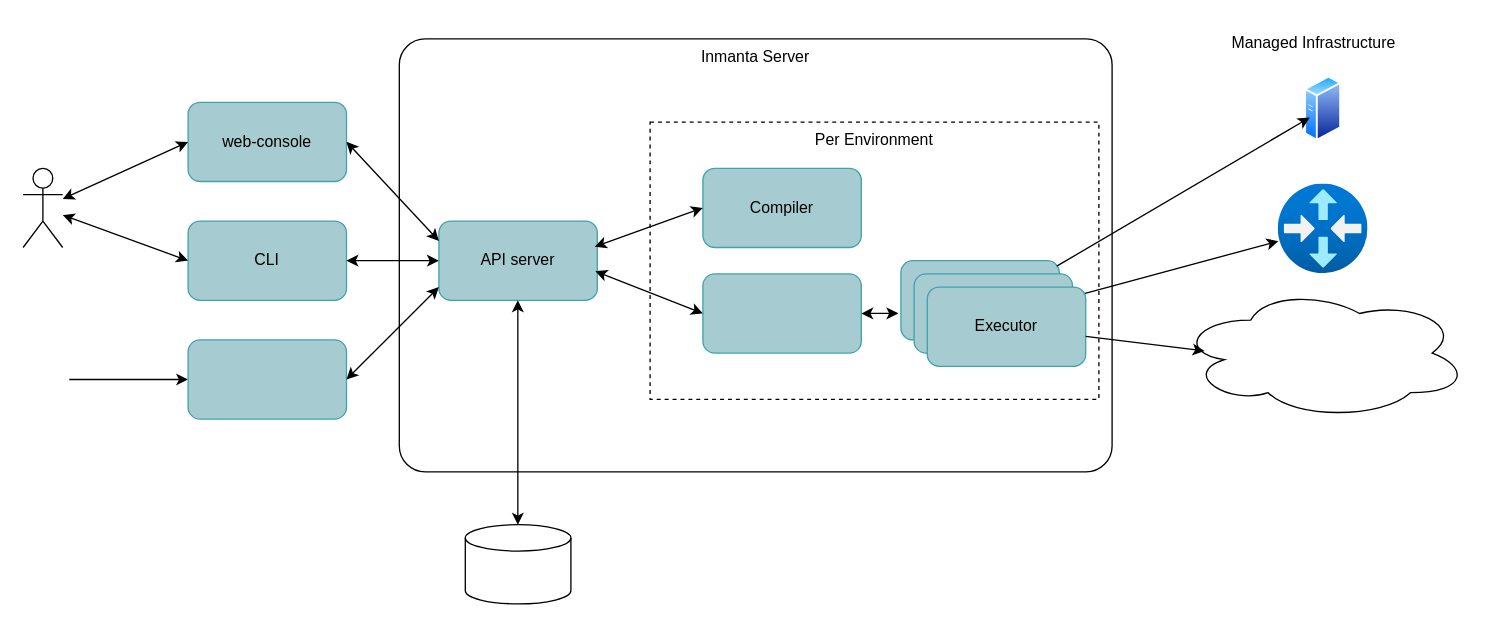
Some shapes in this 1492 by 627 pixel diagram are drawn without their labels. Each missing label, with the centre of its shape:
"API" belongs at point (266, 379).
"Postgresql" belongs at point (517, 563).
"Scheduler" belongs at point (781, 313).
"User" belongs at point (42, 207).
